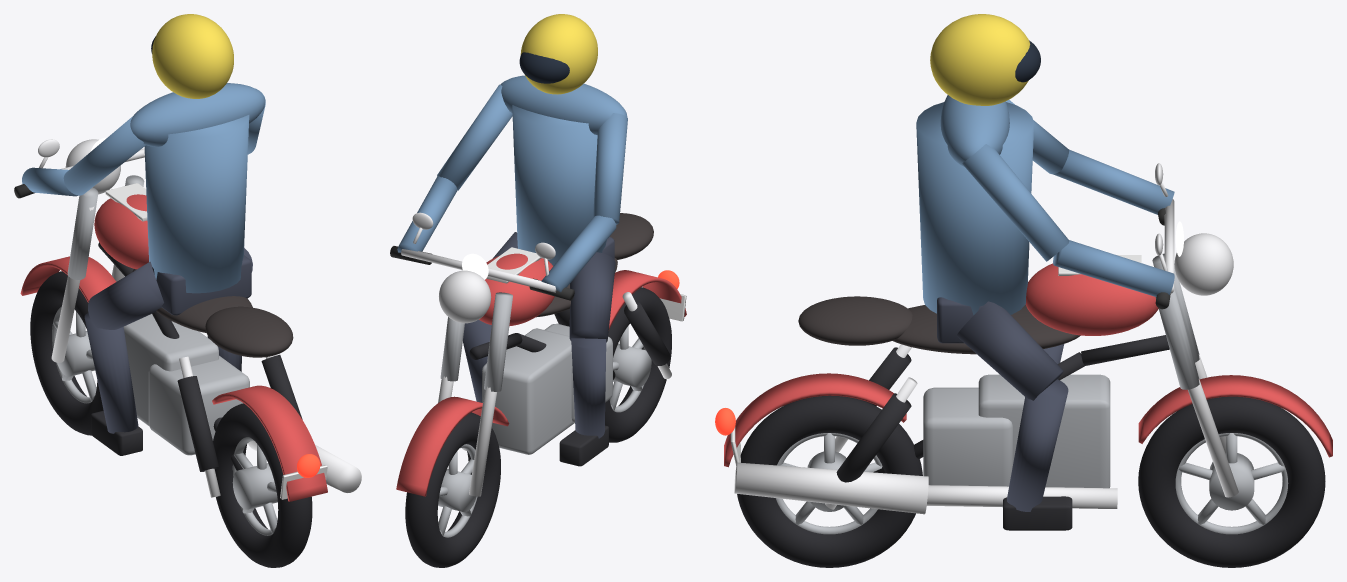
File: commuter.glb
The picture shows the model from 3 angles, left to right: view 1: azimuth 30°, elevation 25°; view 2: azimuth 150°, elevation 25°; view 3: azimuth 270°, elevation 25°; orthographic projection. The views are drawn at different scales.
Parts seen in each view (by area): view 1: rider_jacket, body_alu, rider_pants, body_paint, wheel_r_rubber, rider_helmet, body_seat, wheel_f_rubber, body_chrome, body_black, wheel_r_alu, wheel_f_alu (+3 smaller); view 2: rider_jacket, body_alu, rider_pants, body_paint, wheel_f_rubber, body_chrome, rider_helmet, wheel_r_rubber, body_black, wheel_f_alu, wheel_r_alu, body_seat (+5 smaller); view 3: rider_jacket, body_alu, body_chrome, wheel_f_rubber, body_paint, wheel_r_rubber, rider_pants, body_seat, rider_helmet, body_black, wheel_f_alu, wheel_r_alu (+1 smaller).
Part boxes in pixels (bbox=[...]): rider_jacket: bbox=[22, 83, 265, 293]; body_alu: bbox=[67, 175, 249, 455]; rider_pants: bbox=[84, 247, 252, 433]; body_paint: bbox=[20, 194, 327, 501]; wheel_r_rubber: bbox=[213, 403, 312, 567]; rider_helmet: bbox=[152, 14, 233, 98]; body_seat: bbox=[132, 269, 293, 357]; wheel_f_rubber: bbox=[30, 271, 103, 435]; body_chrome: bbox=[38, 139, 361, 497]; body_black: bbox=[98, 242, 302, 471]; wheel_r_alu: bbox=[232, 437, 277, 535]; wheel_f_alu: bbox=[52, 306, 96, 403]; rider_jacket: bbox=[397, 75, 627, 292]; body_alu: bbox=[440, 292, 612, 454]; rider_pants: bbox=[463, 232, 615, 438]; body_paint: bbox=[396, 253, 686, 496]; wheel_f_rubber: bbox=[405, 412, 500, 567]; body_chrome: bbox=[401, 212, 671, 496]; rider_helmet: bbox=[520, 14, 597, 94]; wheel_r_rubber: bbox=[605, 287, 671, 442]; body_black: bbox=[469, 301, 670, 379]; wheel_f_alu: bbox=[438, 444, 477, 537]; wheel_r_alu: bbox=[609, 326, 651, 412]; body_seat: bbox=[536, 213, 653, 317]; rider_jacket: bbox=[916, 95, 1174, 315]; body_alu: bbox=[923, 253, 1199, 488]; body_chrome: bbox=[734, 163, 1238, 514]; wheel_f_rubber: bbox=[1138, 396, 1325, 567]; body_paint: bbox=[724, 263, 1332, 467]; wheel_r_rubber: bbox=[737, 395, 922, 567]; rider_pants: bbox=[937, 297, 1068, 511]; body_seat: bbox=[798, 296, 1080, 354]; rider_helmet: bbox=[930, 14, 1030, 105]; body_black: bbox=[836, 335, 1169, 482]; wheel_f_alu: bbox=[1175, 433, 1288, 534]; wheel_r_alu: bbox=[775, 433, 882, 534].
Size of the model in its own units: 0.7059 by 1.75 by 1.78.
